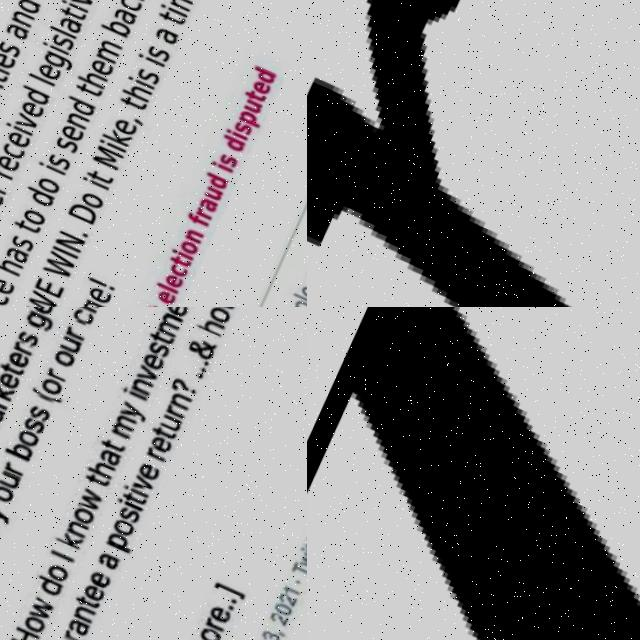0: (279, 595, 300, 612)
1: (287, 578, 307, 591)
2: (283, 584, 306, 602), (275, 604, 296, 621), (262, 632, 284, 640)
3: (266, 622, 288, 640)
7: (307, 307, 640, 640)
R: (307, 0, 640, 307)
